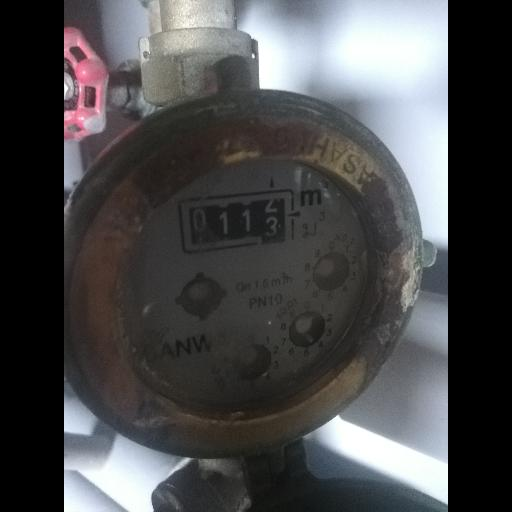0: (188, 205, 214, 246)
1: (211, 201, 240, 243), (236, 200, 263, 239)
3: (259, 197, 288, 245)
border_water_meter_number: (177, 188, 299, 255)
